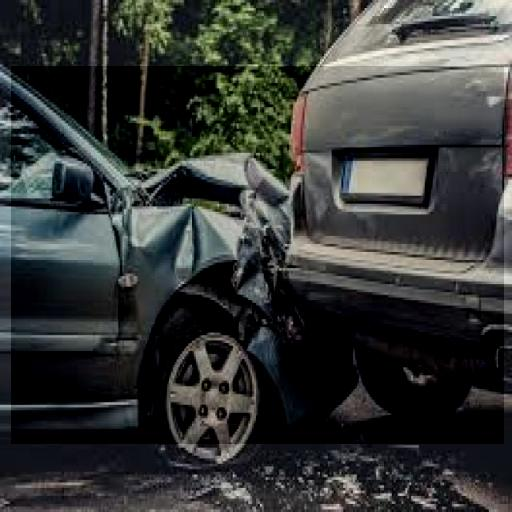小汽车撞小汽车: (11, 66, 504, 444)
